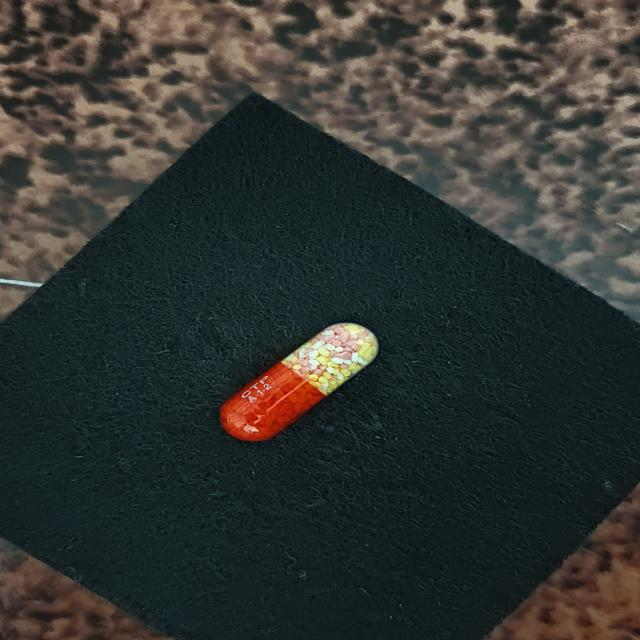Intact Capsule: (220, 322, 379, 441)
